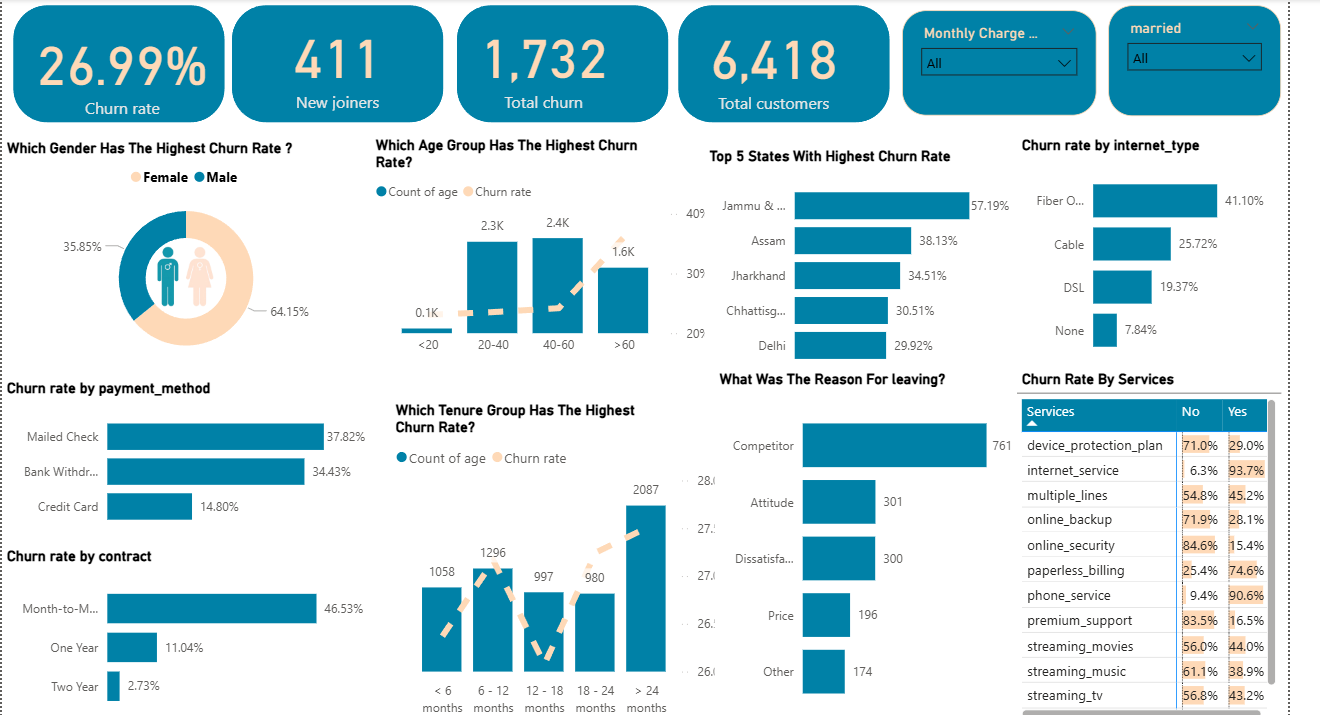

Layout of this report page (visuals, bound fields, positions):
{"tool":"powerbi","page":{"name":"Page 1","canvas":[1280,720],"ordinal":0},"visuals":[{"type":"shape","box":[673.5,5.7,210.3,116.5],"z":0},{"type":"shape","box":[453.3,5.7,210.3,116.5],"z":1000},{"type":"shape","box":[228.8,5.7,210.3,116.5],"z":2000},{"type":"shape","box":[11.4,5.7,210.3,116.5],"z":3000},{"type":"card","fields":{"Values":["_measures.Churn rate"]},"box":[0,5.7,240.1,127.9],"z":4000},{"type":"card","fields":{"Values":["_measures.Total customers"]},"box":[628.1,5.7,279.9,116.5],"z":5000},{"type":"card","fields":{"Values":["_measures.New joiners"]},"box":[194.7,11.4,279.9,105.2],"z":6000},{"type":"card","fields":{"Values":["_measures.Total churn"]},"box":[399.3,2.8,279.9,122.2],"z":7000},{"type":"lineStackedColumnComboChart","title":"Which Age Group Has The Highest Churn Rate?","fields":{"Category":["Age groups.Age groups"],"Y":["CountNonNull(public prod_churn.age)"],"Y2":["_measures.Churn rate"]},"box":[366.6,136.4,342.5,225.9],"z":8000},{"type":"donutChart","title":"Which Gender Has The Highest Churn Rate ?","fields":{"Category":["public prod_churn.gender"],"Y":["_measures.Total churn"]},"box":[0,139.3,366.6,230.2],"z":9000},{"type":"clusteredBarChart","fields":{"Category":["public prod_churn.payment_method"],"Y":["_measures.Churn rate"]},"box":[0,378,366.6,160.6],"z":10000},{"type":"clusteredBarChart","fields":{"Category":["public prod_churn.contract"],"Y":["_measures.Churn rate"]},"box":[0,545.7,366.6,174.8],"z":11000},{"type":"lineStackedColumnComboChart","title":"Which Tenure Group Has The Highest Churn Rate?","fields":{"Y":["CountNonNull(public prod_churn.age)"],"Y2":["_measures.Churn rate"],"Category":["Tenure groups.Tenure groups"]},"box":[386.5,400.7,342.5,319.7],"z":12000},{"type":"clusteredBarChart","title":"Top 5 States With Highest Churn Rate","fields":{"Category":["public prod_churn.state"],"Y":["_measures.Churn rate"]},"box":[699.1,147.8,308.3,230.2],"z":13000},{"type":"clusteredBarChart","title":"What Was The Reason For leaving?","fields":{"Category":["public prod_churn.churn_category"],"Y":["_measures.Total churn"]},"box":[709.1,369.5,301.2,351],"z":14000},{"type":"clusteredBarChart","fields":{"Category":["public prod_churn.internet_type"],"Y":["_measures.Churn rate"]},"box":[1010.3,136.4,252.9,233],"z":15000},{"type":"pivotTable","title":"Churn Rate By Services","fields":{"Rows":["Services_Details.Services"],"Columns":["Services_Details.Status"],"Values":["Sum(Services_Details.Churn status)"]},"box":[1010.3,369.5,262.9,351],"z":16000},{"type":"slicer","fields":{"Values":["public prod_churn.Monthly range"]},"box":[895.2,11.4,193.3,105.2],"z":17000},{"type":"slicer","fields":{"Values":["public prod_churn.married"]},"box":[1100.9,6.2,171.7,110.7],"z":18000},{"type":"image","box":[136.8,222.7,92.1,105.7],"z":18001}]}

Visuals, with their boxes on the page's 1280x720 design canvas (x1, y1, x2, y2). These are canvas units, not pixel positions in the 1320x715 screenshot, which may show the page scaled, cropped or inside an application window:
shape: [left=674, top=6, right=884, bottom=122]
shape: [left=453, top=6, right=664, bottom=122]
shape: [left=229, top=6, right=439, bottom=122]
shape: [left=11, top=6, right=222, bottom=122]
card - _measures.Churn rate: [left=0, top=6, right=240, bottom=134]
card - _measures.Total customers: [left=628, top=6, right=908, bottom=122]
card - _measures.New joiners: [left=195, top=11, right=475, bottom=117]
card - _measures.Total churn: [left=399, top=3, right=679, bottom=125]
"Which Age Group Has The Highest Churn Rate?" lineStackedColumnComboChart: [left=367, top=136, right=709, bottom=362]
"Which Gender Has The Highest Churn Rate ?" donutChart: [left=0, top=139, right=367, bottom=370]
clusteredBarChart - public prod_churn.payment_method x _measures.Churn rate: [left=0, top=378, right=367, bottom=539]
clusteredBarChart - public prod_churn.contract x _measures.Churn rate: [left=0, top=546, right=367, bottom=720]
"Which Tenure Group Has The Highest Churn Rate?" lineStackedColumnComboChart: [left=386, top=401, right=729, bottom=720]
"Top 5 States With Highest Churn Rate" clusteredBarChart: [left=699, top=148, right=1007, bottom=378]
"What Was The Reason For leaving?" clusteredBarChart: [left=709, top=370, right=1010, bottom=720]
clusteredBarChart - public prod_churn.internet_type x _measures.Churn rate: [left=1010, top=136, right=1263, bottom=369]
"Churn Rate By Services" pivotTable: [left=1010, top=370, right=1273, bottom=720]
slicer - public prod_churn.Monthly range: [left=895, top=11, right=1088, bottom=117]
slicer - public prod_churn.married: [left=1101, top=6, right=1273, bottom=117]
image: [left=137, top=223, right=229, bottom=328]
